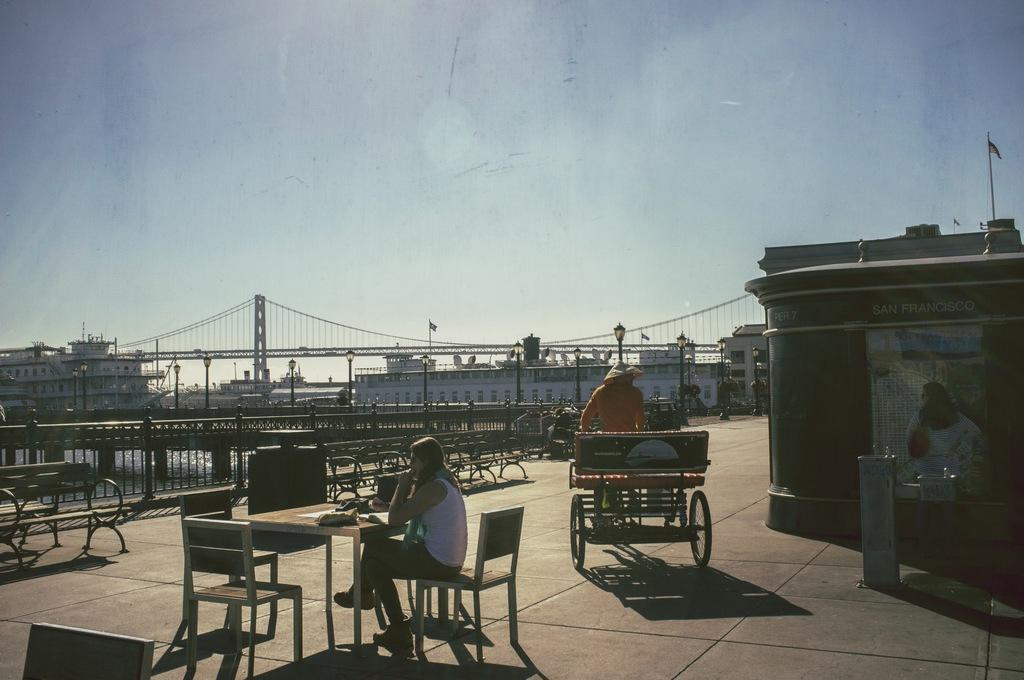Chair: (180, 516, 302, 679), (412, 504, 524, 663)
